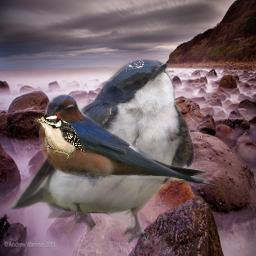Swallow: (9, 58, 196, 245), (39, 94, 224, 189)
Woodpecker: (33, 113, 86, 159)
